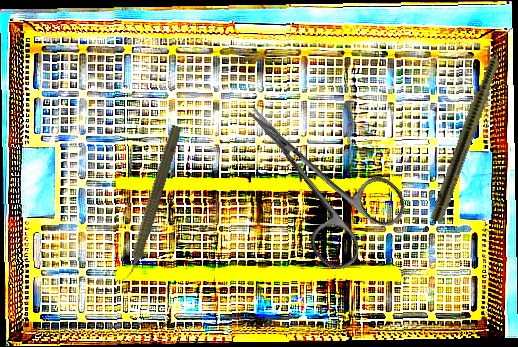Handpiece: (429, 23, 516, 224), (117, 122, 185, 288)
Iris Scissors: (214, 71, 415, 278)
